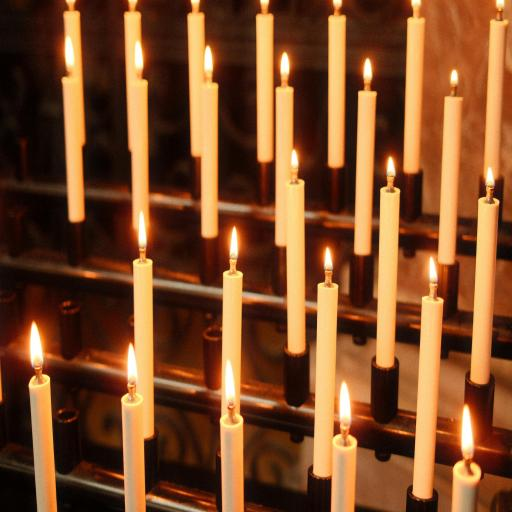candlelight: (464, 174, 499, 442), (406, 274, 443, 508), (55, 38, 90, 226), (27, 320, 59, 512), (312, 267, 338, 480), (375, 170, 400, 369), (132, 226, 155, 438), (354, 54, 377, 258), (437, 89, 463, 267), (119, 343, 145, 512), (219, 352, 245, 512), (484, 11, 507, 182), (403, 6, 426, 176), (222, 222, 242, 411), (200, 50, 219, 242), (286, 147, 305, 331), (333, 378, 358, 512), (451, 404, 482, 512), (275, 76, 294, 246), (255, 0, 273, 173), (186, 0, 205, 161), (328, 6, 346, 169), (130, 36, 149, 186), (123, 0, 142, 112), (63, 1, 82, 87), (126, 343, 139, 401)
